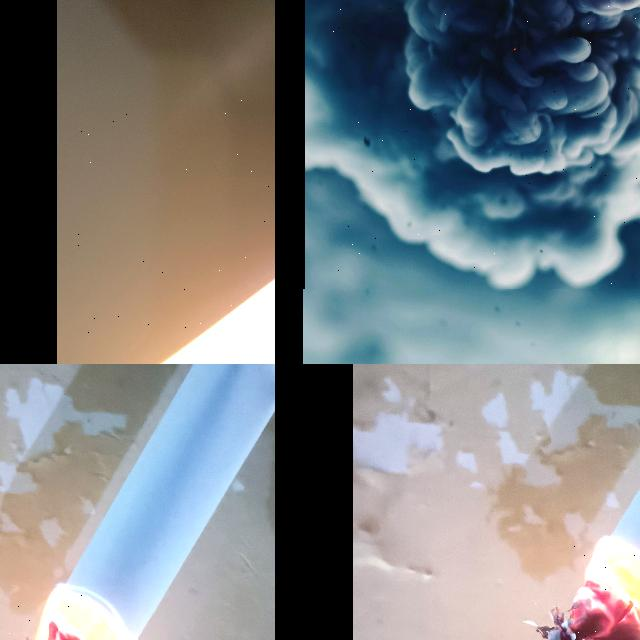fire: (536, 536, 640, 640), (32, 586, 135, 640)
smoke: (304, 0, 640, 288)
